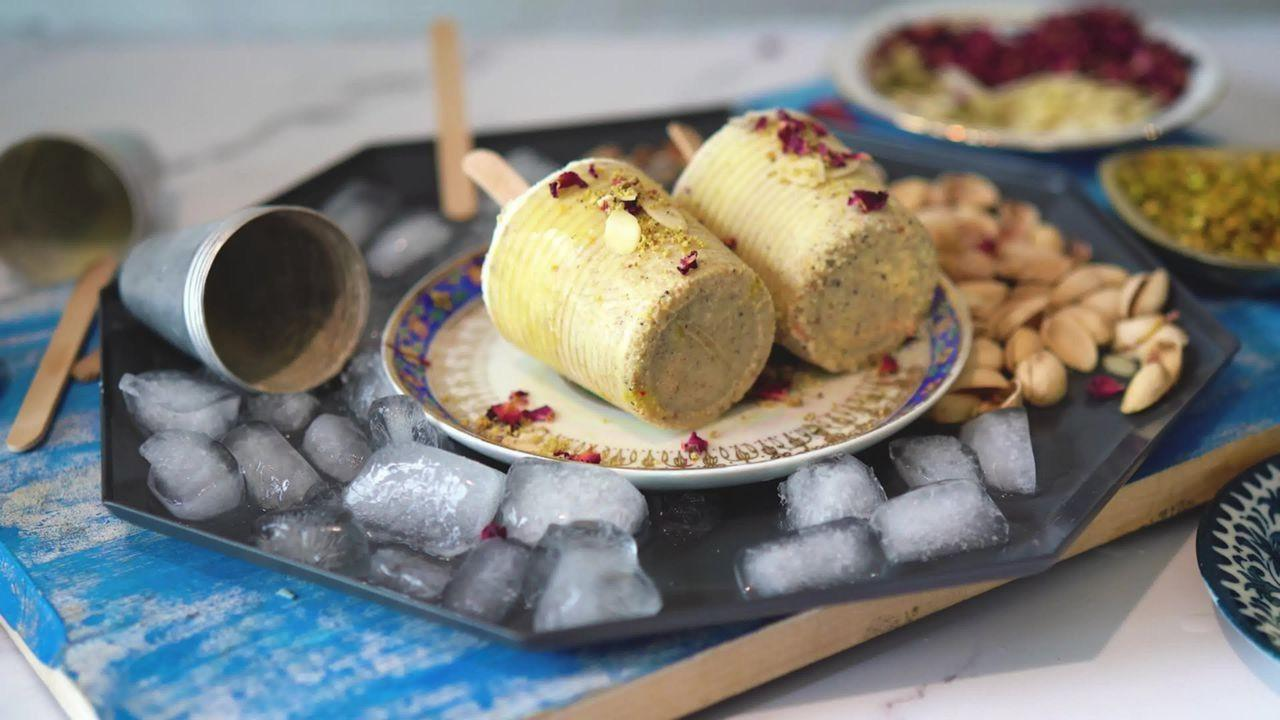Kulfi: (481, 155, 778, 429), (670, 108, 944, 372)
